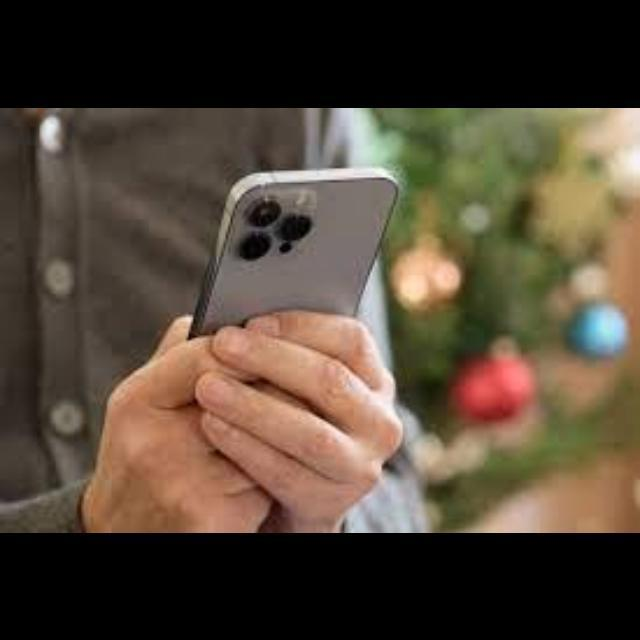PhoneUse: (186, 166, 400, 347)
